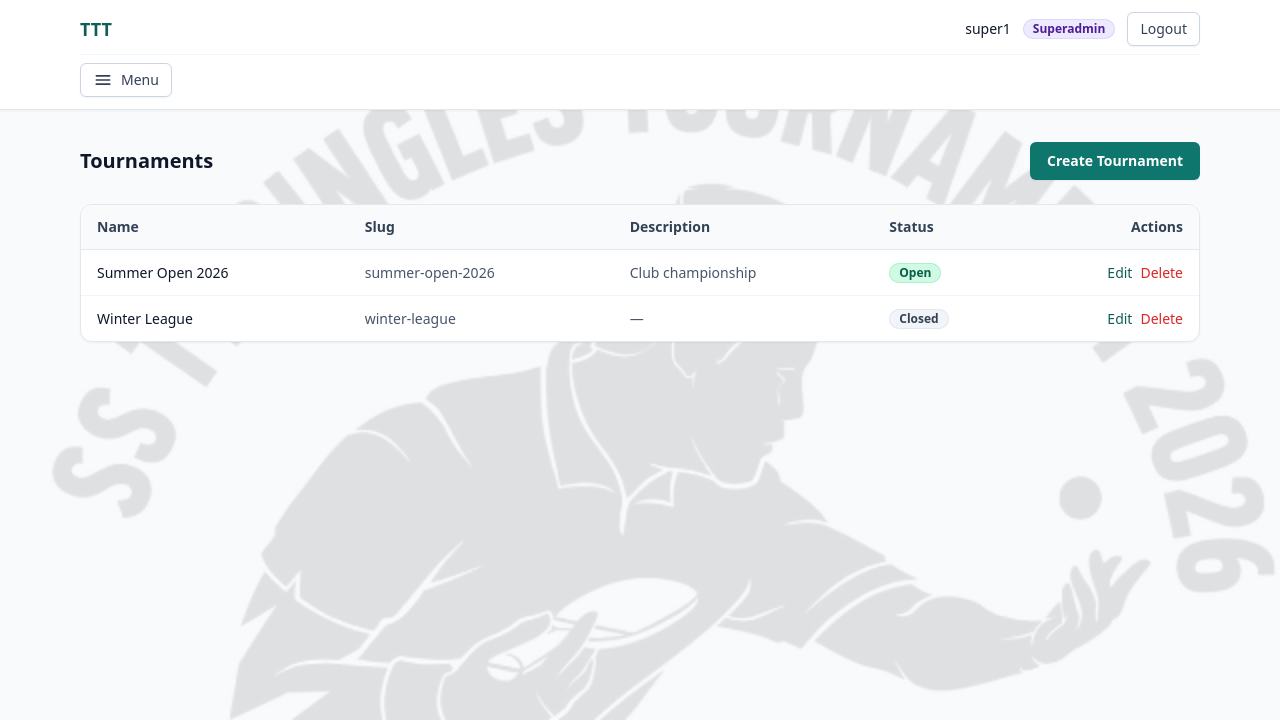
Test: Tournament list › deletes a tournament after confirmation
Expected: the text "Summer Open 2026" is shown, x1=81 y1=250 x2=349 y2=296
Click the button "Delete" in the row of "Summer Open 2026" at (1162, 272), box x1=1140 y1=262 x2=1183 y2=282
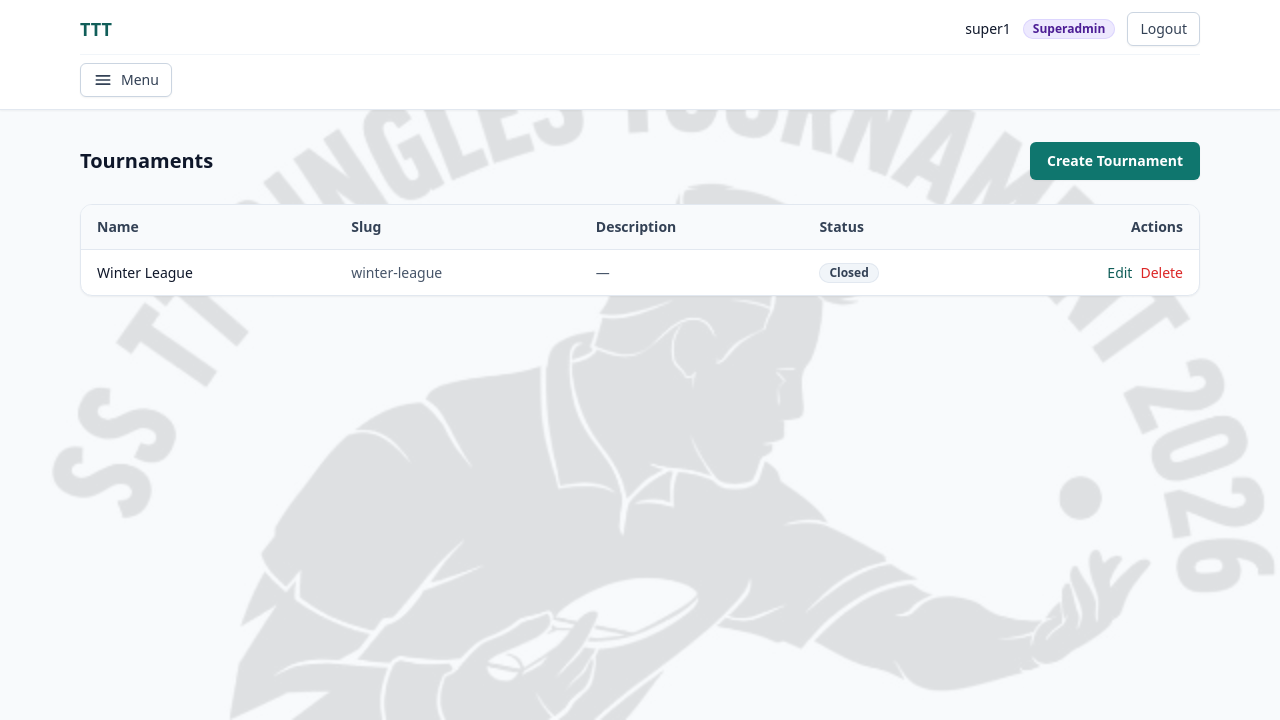
Expected: the text "Winter League" is shown, x1=81 y1=250 x2=335 y2=295
Result: the text "Summer Open 2026" is gone
